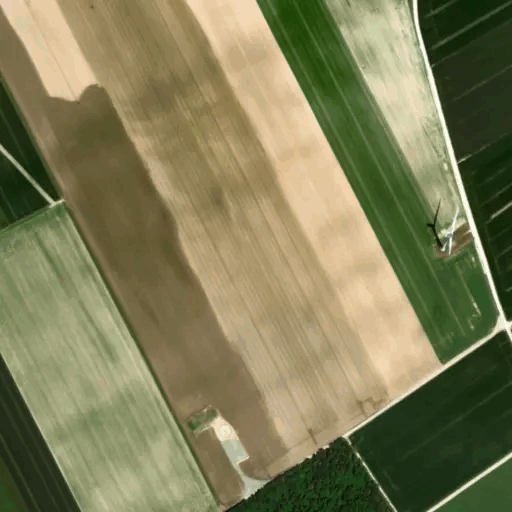wt: (421, 195, 467, 261)
